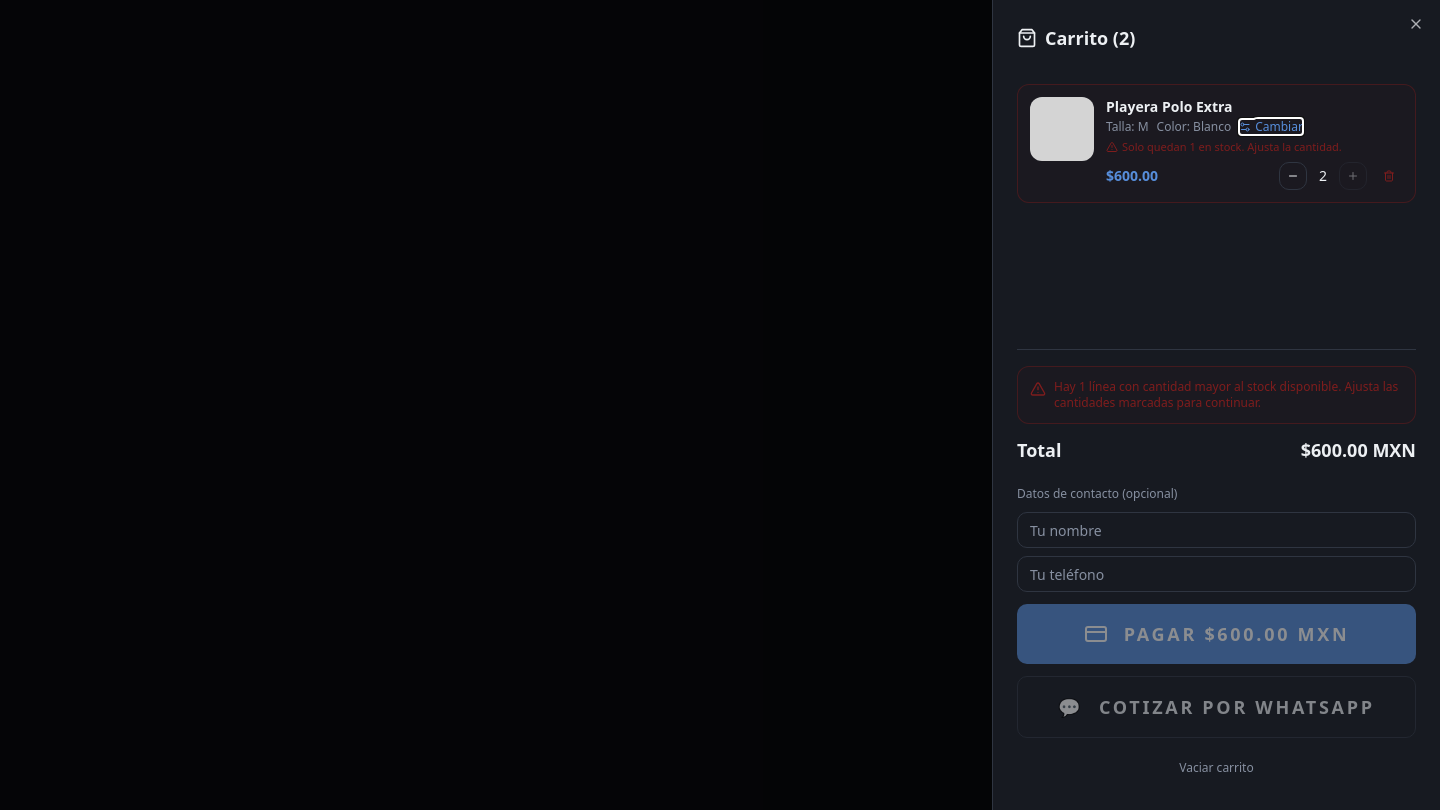
Test case: CartDrawer — extra e2e coverage › [4] Pay / Quote buttons honor aria-disabled when over stock; role=alert appears and clears when qty returns under stock
Expected: the message that starts with "Hay" shows "mayor al stock", [1054,378,1398,411]
Expected: the button "Pagar $600.00 MXN" is disabled, [1017,604,1416,664]
Return under stock — alert clears and buttons re-enable.
Click the button named "disminuir cantidad" at (1293, 176), box [1279,162,1307,190]
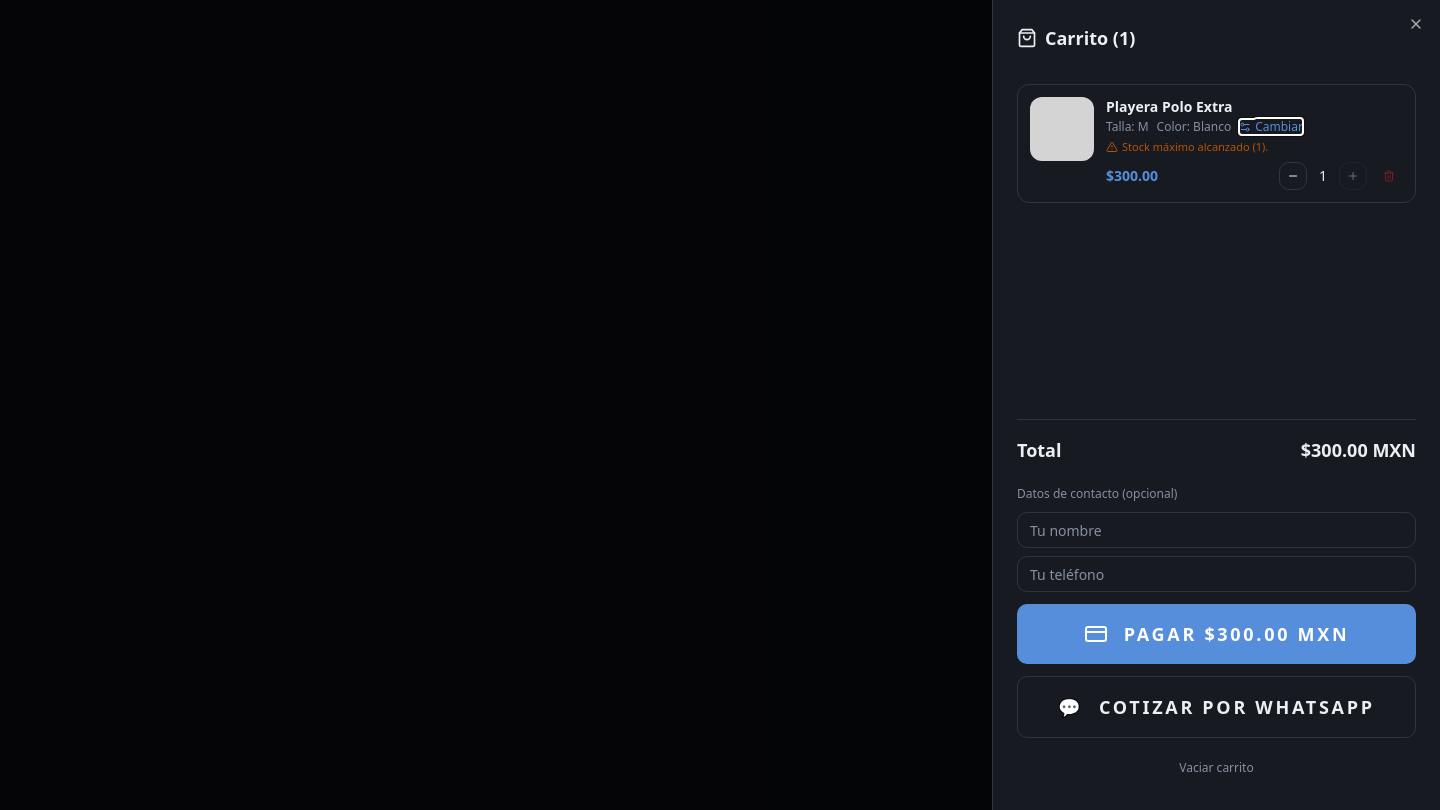
Result: the button "Pagar $300.00 MXN" is enabled at [1017,604,1416,664]
Result: the button "💬 Cotizar por WhatsApp" is enabled at [1017,676,1416,738]
